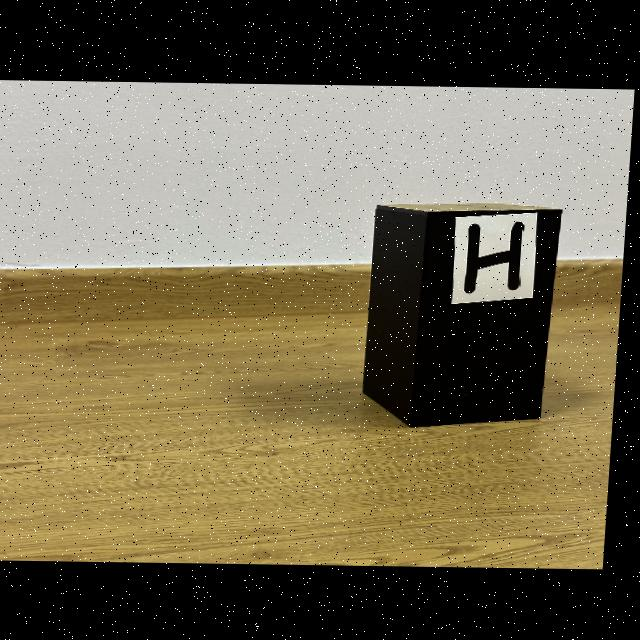H: (469, 221, 527, 293)
